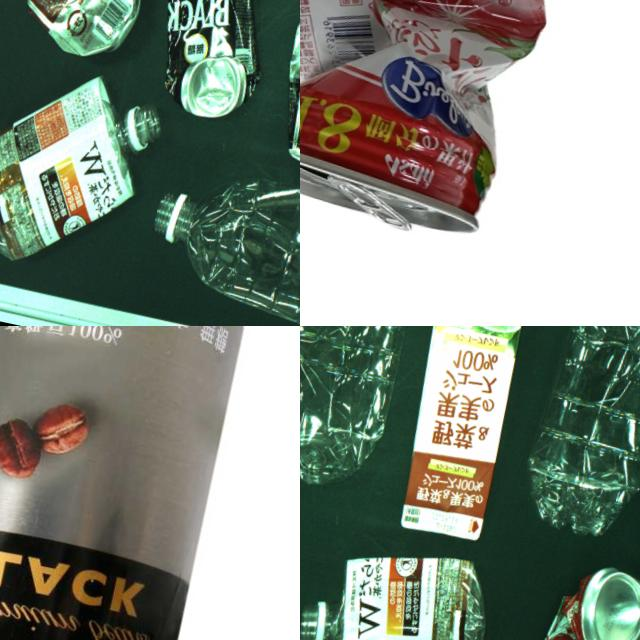Aluminium Foil: (377, 326, 565, 551)
Can: (0, 326, 268, 640), (300, 0, 558, 245), (149, 0, 285, 129), (10, 0, 152, 70)
Transparent Plastic Bottle: (0, 77, 160, 286), (516, 326, 640, 544), (138, 164, 300, 326), (300, 326, 427, 500), (300, 533, 493, 640)
